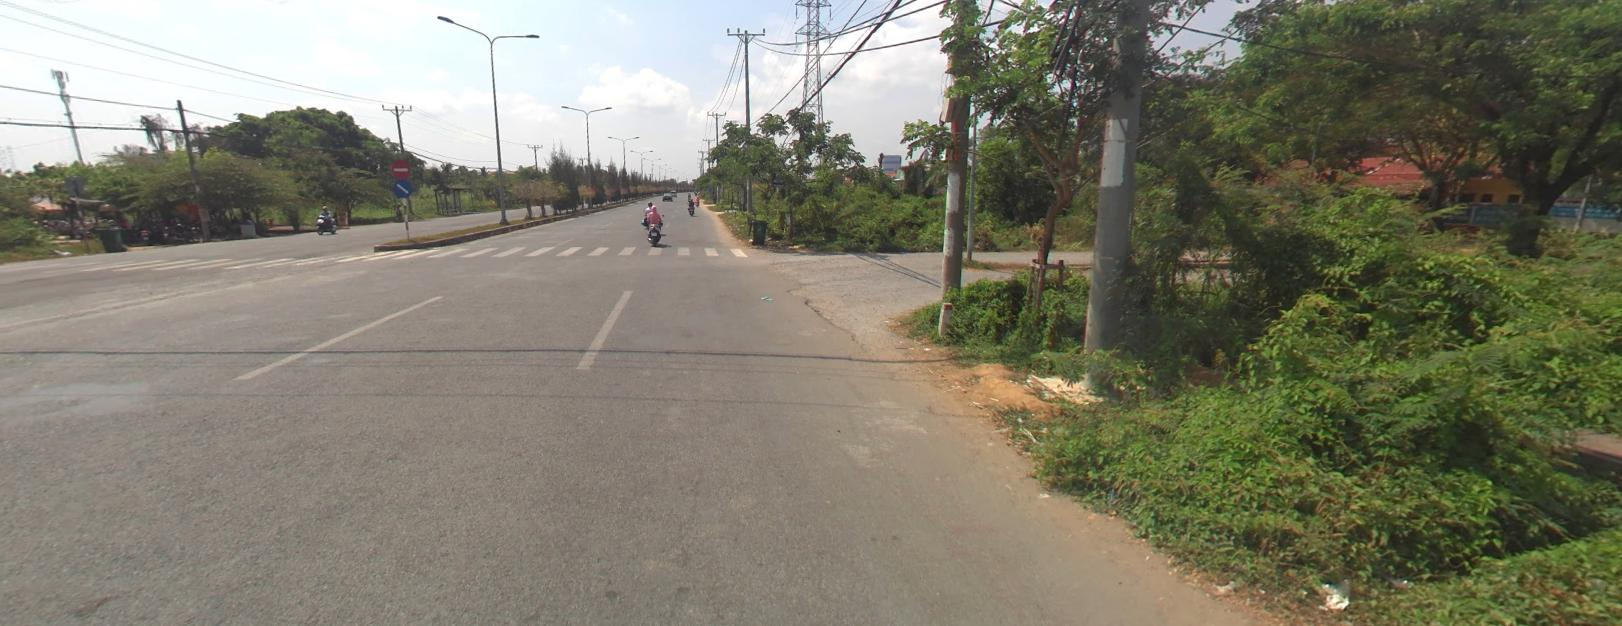Cam nguoc chieu: (391, 158, 411, 179), (392, 158, 409, 178)
Hieu lenh: (392, 178, 411, 197), (393, 178, 411, 195)
